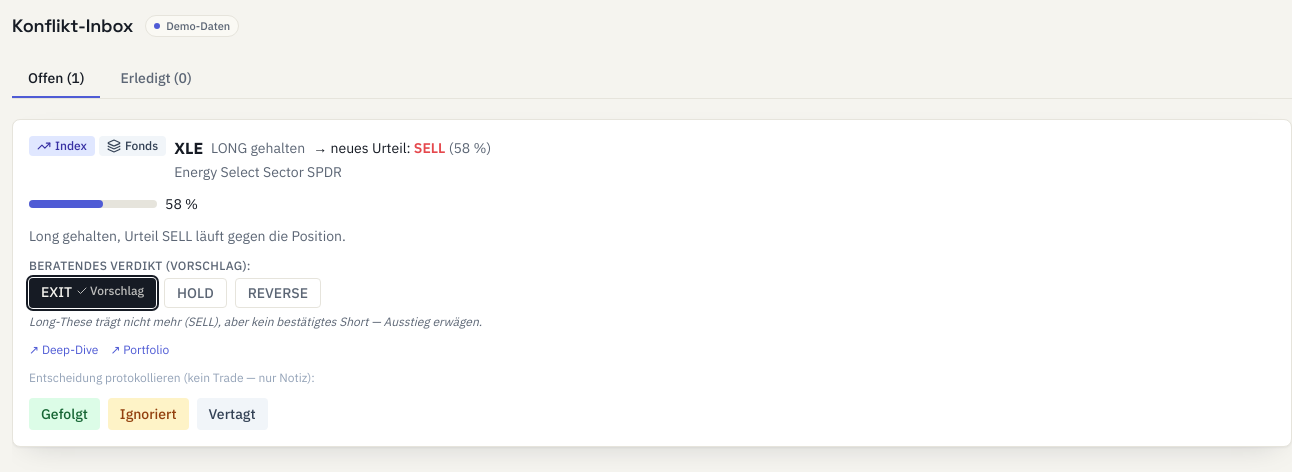
Test: InboxPage (US28/US30) › sind alle Konflikte erledigt: Offen-Tab zeigt 'Keine offenen Konflikte.'
Expected: the link "XLE" is shown, [174,136,203,160]
Click the button "Gefolgt" at (64, 414), box [29,398,100,430]
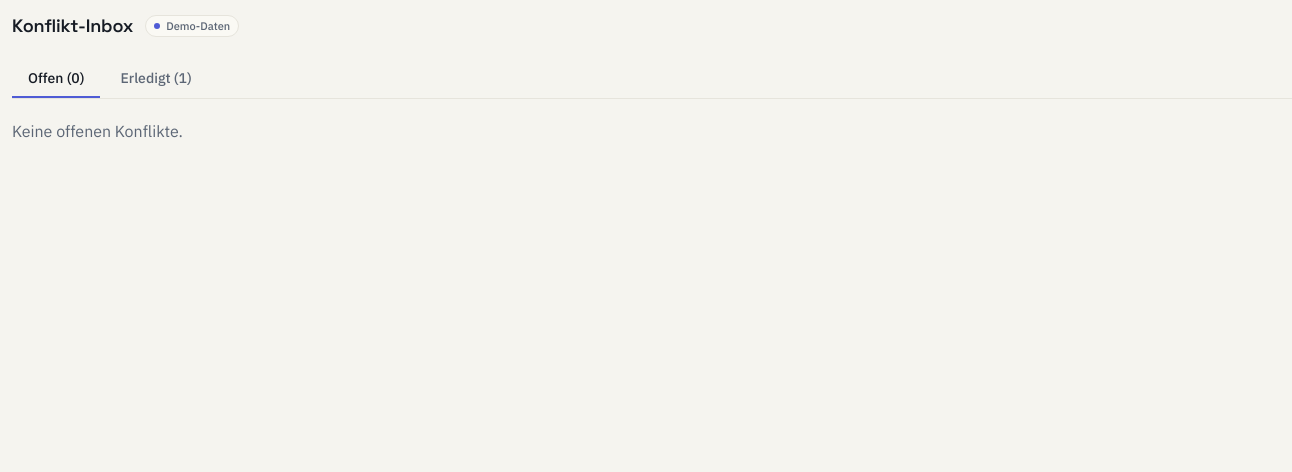
Expected: the text "Keine offenen Konflikte." is shown, [12,121,183,141]
